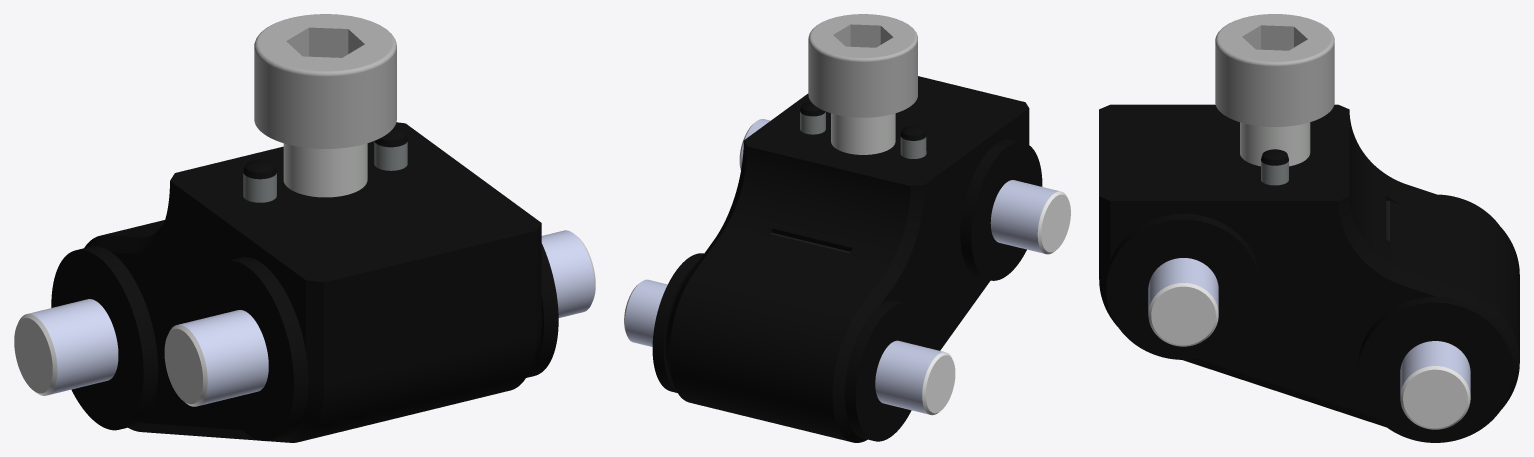
Rendered from driver.dae.
3 renders of one model, left to right at view 1: azimuth 30°, elevation 25°; view 2: azimuth 150°, elevation 25°; view 3: azimuth 270°, elevation 25°, orthographic. The views are drawn at different scales.
Parts seen in each view (by area): view 1: ID2; view 2: ID2; view 3: ID2.
Part boxes in pixels (left/top/right/bottom): ID2: left=14, top=14, right=595, bottom=442; ID2: left=624, top=14, right=1070, bottom=442; ID2: left=1099, top=14, right=1519, bottom=442.
Bounding box in the file's own units: 0.027 × 0.0299 × 0.028.
